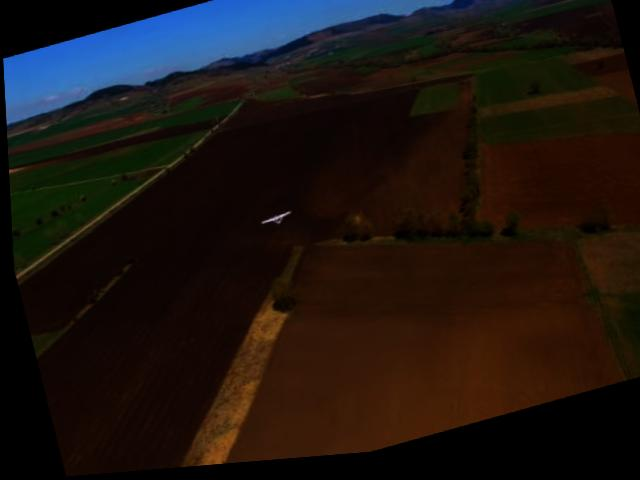uav: (249, 202, 298, 241)
